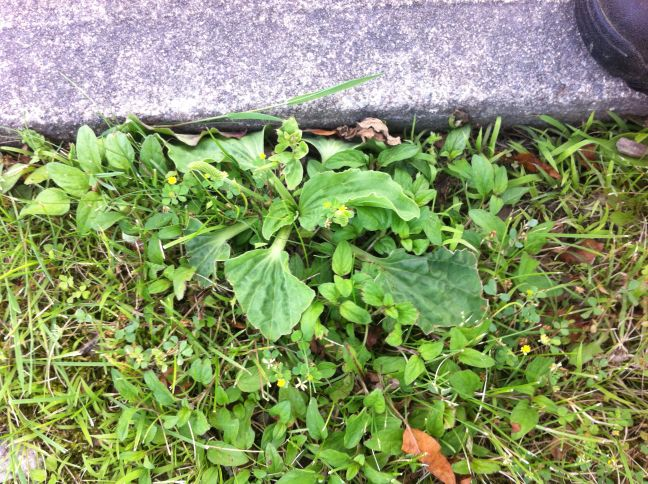weed1: (143, 125, 498, 344)
